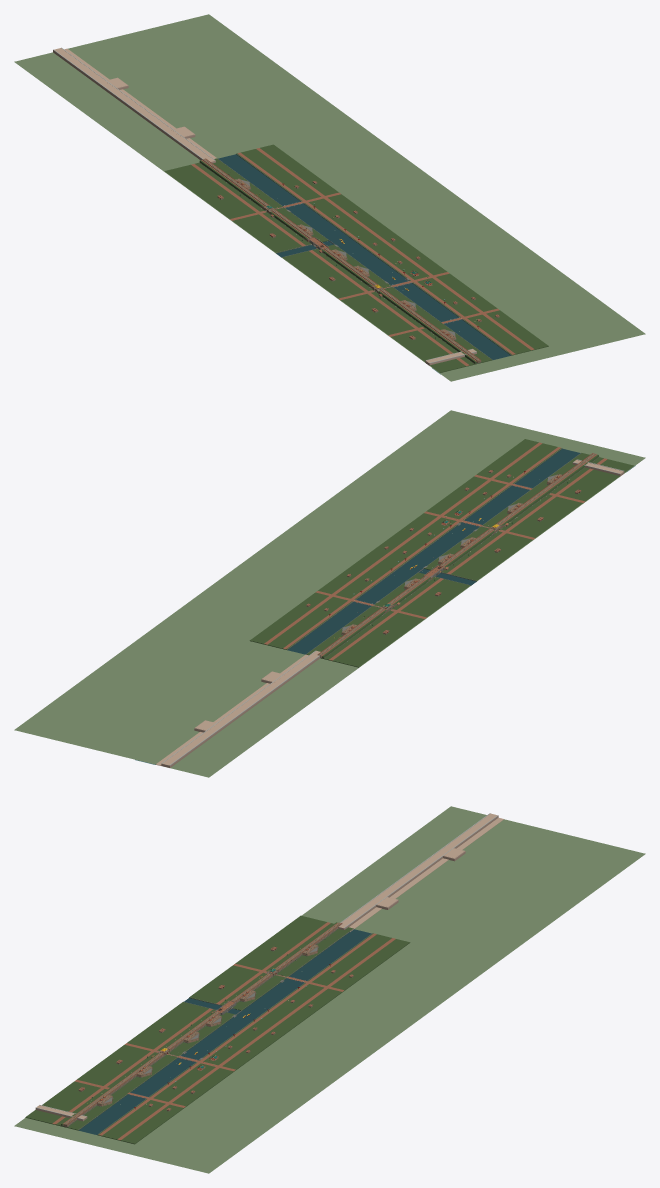
The model's file is T26_thanh_vauban_dong.glb.
3 views of the same model, one above another, from view 1: azimuth 30°, elevation 25°; view 2: azimuth 150°, elevation 25°; view 3: azimuth 330°, elevation 25° (orthographic).
Visible parts, largest first — view 1: T26_V2_Satellite_Seamless_Base, T26_v01_Root_Terrain; view 2: T26_V2_Satellite_Seamless_Base, T26_v01_Root_Terrain; view 3: T26_V2_Satellite_Seamless_Base, T26_v01_Root_Terrain.
Part boxes in pixels (<box>): T26_V2_Satellite_Seamless_Base: <box>14,14,645,381</box>; T26_v01_Root_Terrain: <box>164,144,548,372</box>; T26_V2_Satellite_Seamless_Base: <box>14,410,645,777</box>; T26_v01_Root_Terrain: <box>249,439,633,667</box>; T26_V2_Satellite_Seamless_Base: <box>14,806,645,1173</box>; T26_v01_Root_Terrain: <box>25,915,410,1144</box>.
Size of the model in its own units: 540 by 15.77 by 2095.
21 materials, 7 textured.
